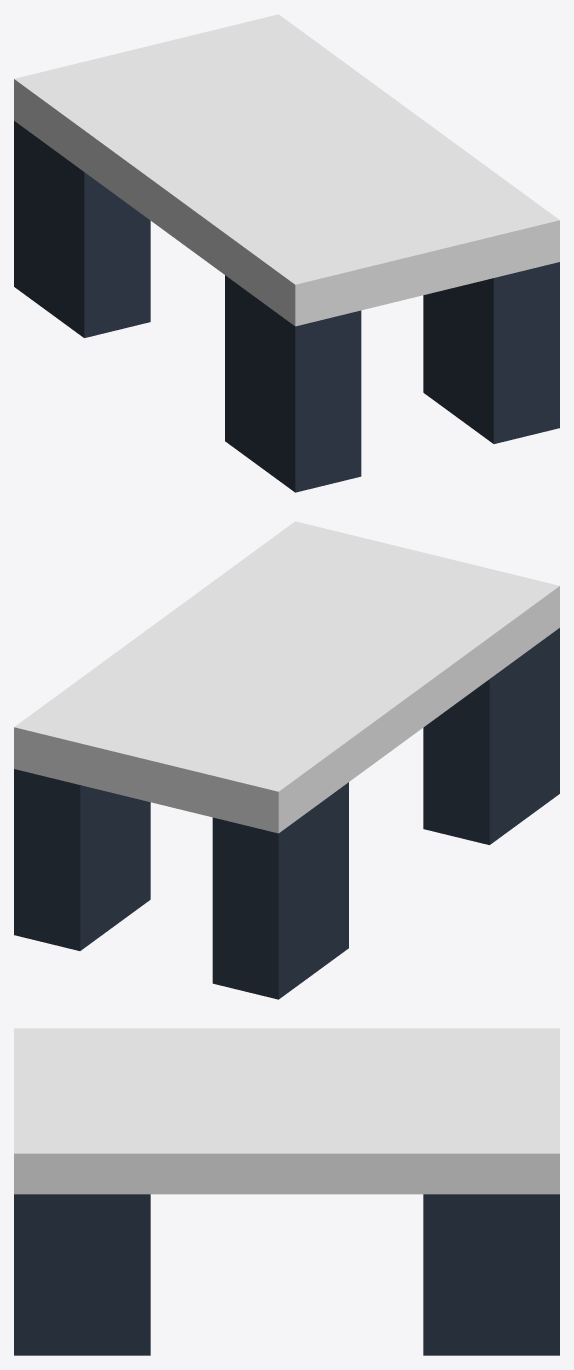
File: bureau.glb
The picture shows the model from 3 angles, top to bottom: view 1: azimuth 30°, elevation 25°; view 2: azimuth 150°, elevation 25°; view 3: azimuth 270°, elevation 25°; orthographic projection. The views are drawn at different scales.
Visible parts, largest first — view 1: Cube; view 2: Cube; view 3: Cube.
Part boxes in pixels (x1,y1,x2,y2): Cube: (14,14,559,492); Cube: (14,521,559,999); Cube: (14,1028,559,1355).
Size of the model in its own units: 1.03 by 0.7701 by 1.89.
1 material, 1 textured.
